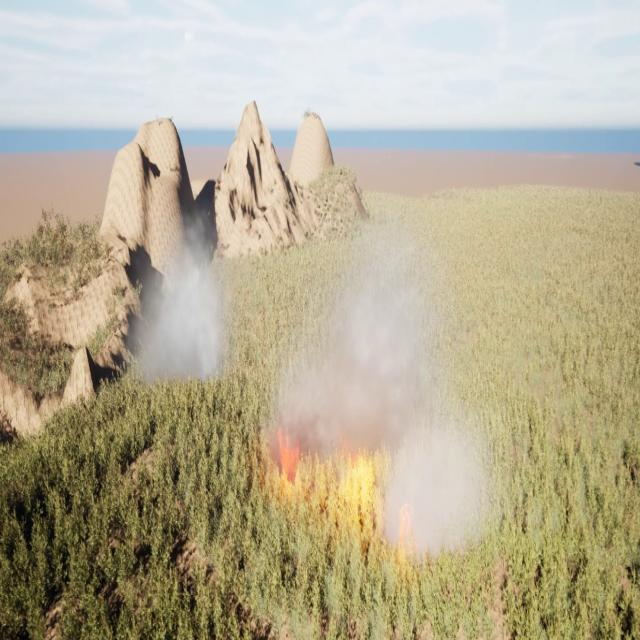fire: (334, 429, 373, 520), (272, 424, 300, 489), (396, 506, 416, 552)
smoke: (274, 213, 496, 562), (119, 207, 239, 390)
